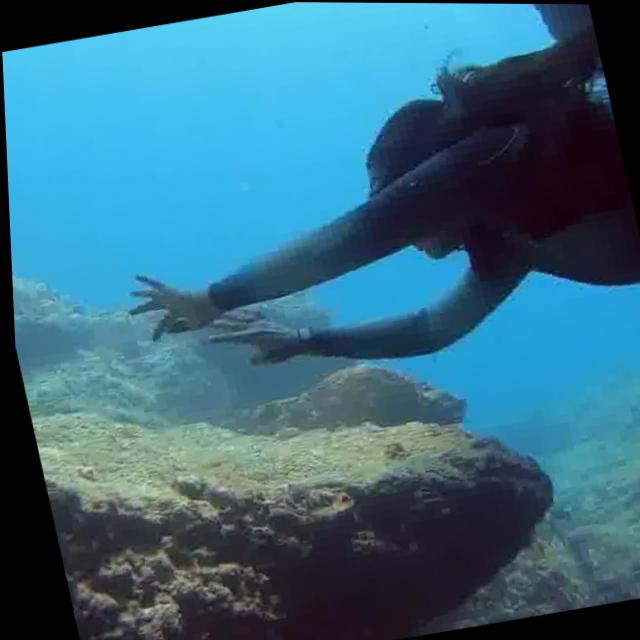human: (80, 2, 640, 640)
